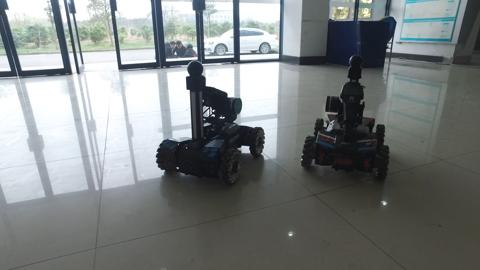car: (197, 19, 284, 62)
chariot: (297, 55, 404, 199), (153, 54, 267, 185)
